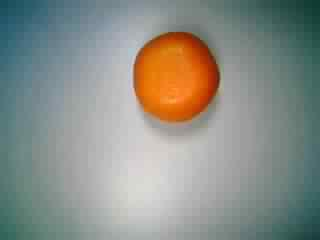orange: (122, 29, 223, 126)
